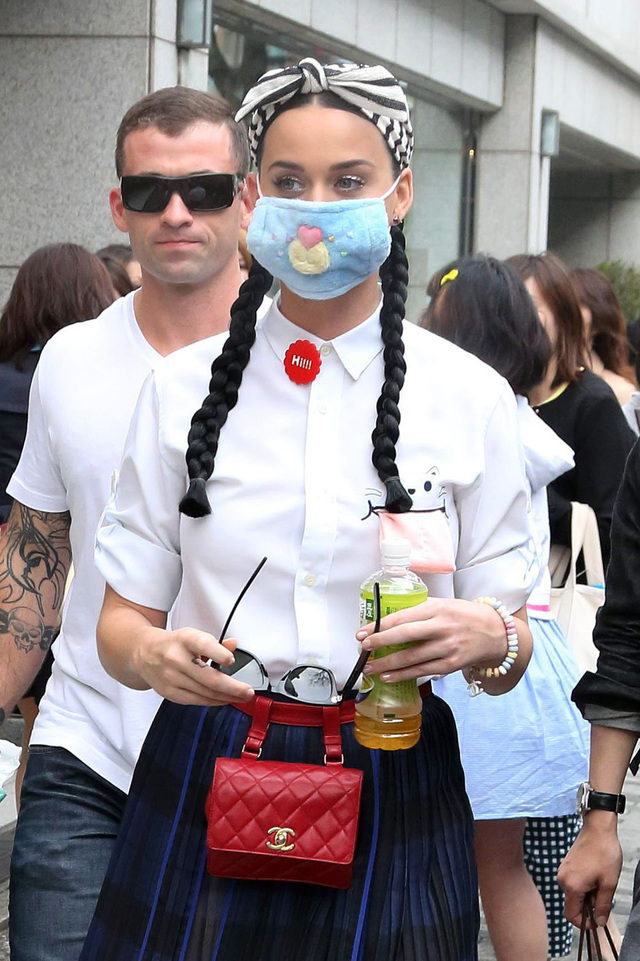mask: (241, 198, 387, 300)
